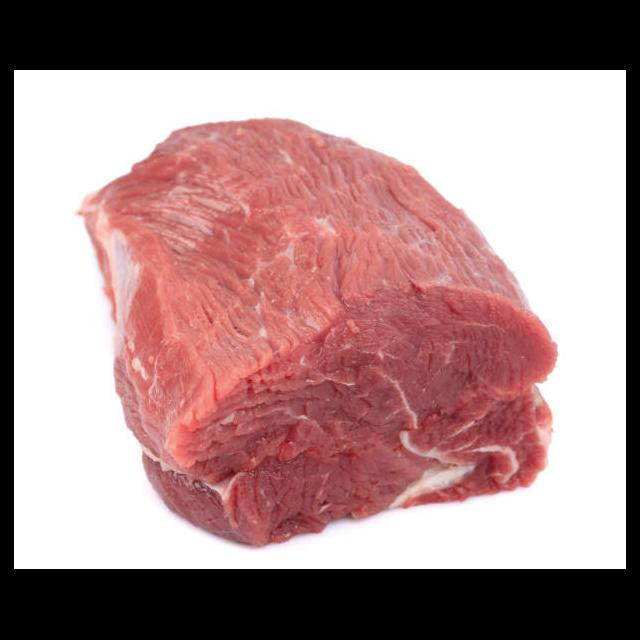beef: (75, 117, 558, 550)
